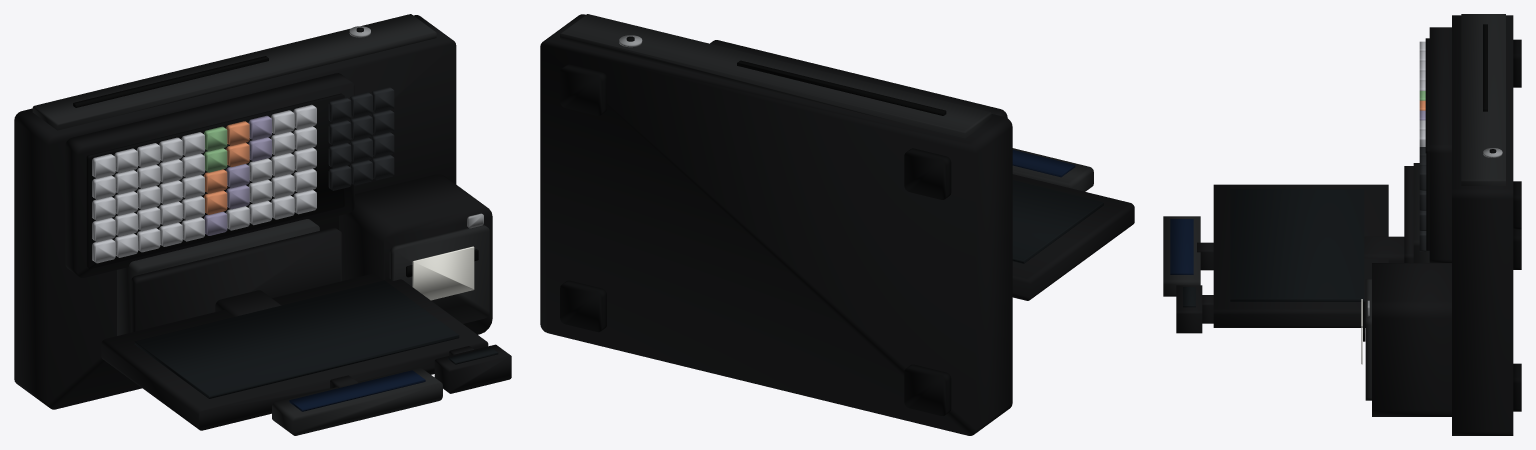
Rendered from SM_cash_register_obj.obj.
3 views of the same model, side by side, from view 1: azimuth 30°, elevation 25°; view 2: azimuth 150°, elevation 25°; view 3: azimuth 270°, elevation 25° (orthographic). The views are drawn at different scales.
Parts seen in each view (by area): view 1: SM_cash_register_obj; view 2: SM_cash_register_obj; view 3: SM_cash_register_obj.
Part boxes in pixels (left/top/right/bottom): SM_cash_register_obj: left=14, top=14, right=511, bottom=435; SM_cash_register_obj: left=540, top=14, right=1134, bottom=435; SM_cash_register_obj: left=1163, top=14, right=1521, bottom=435.
Bounding box in the file's own units: 47 × 31.25 × 39.67.
